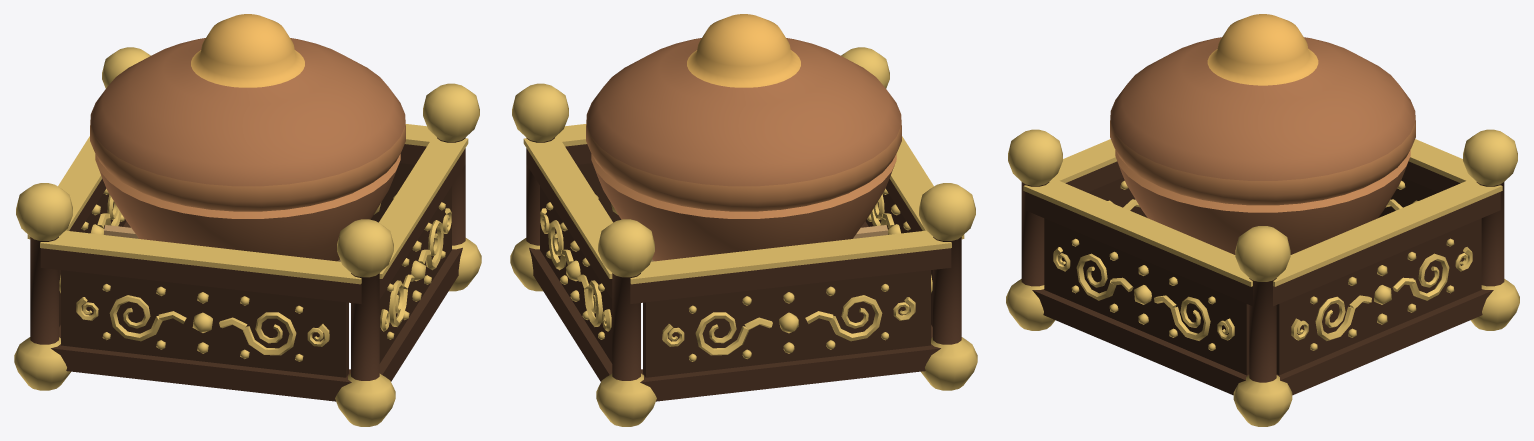
Rendered from KenongSet.fbx.
The picture shows the model from 3 angles, left to right: view 1: azimuth 30°, elevation 25°; view 2: azimuth 150°, elevation 25°; view 3: azimuth 270°, elevation 25°; orthographic projection. The views are drawn at different scales.
Visible parts, largest first — view 1: KenongSet_Mesh; view 2: KenongSet_Mesh; view 3: KenongSet_Mesh.
Boxes of the visible parts, x1,y1,x2,y2 form: KenongSet_Mesh: (14,14,481,426); KenongSet_Mesh: (510,14,977,426); KenongSet_Mesh: (1006,14,1519,426).
Size of the model in its own units: 0.5748 by 0.3813 by 0.5748.
